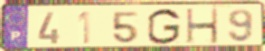1: (77, 11, 91, 44)
4: (37, 11, 61, 45)
5: (111, 10, 141, 44)
9: (226, 8, 255, 43)
G: (146, 8, 182, 46)
H: (185, 7, 221, 45)
